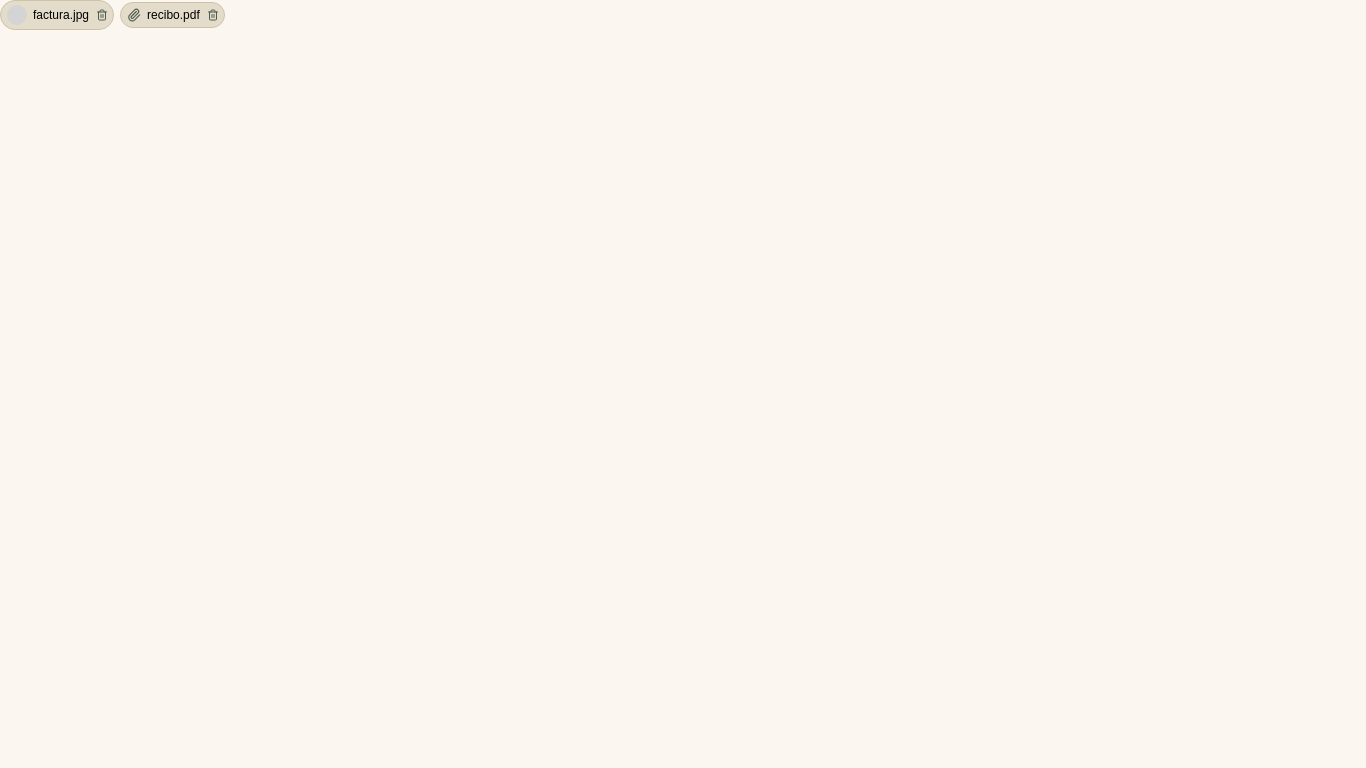
Scenario: SupplierAttachmentsGallery › renders a chip per file, a thumbnail only for images, and keeps the delete button from opening the viewer
Expected: the text "recibo.pdf" is shown, [147,7,200,23]
Click the 1st button named "Eliminar archivo". click: (102,15)
box: [94,7,110,23]
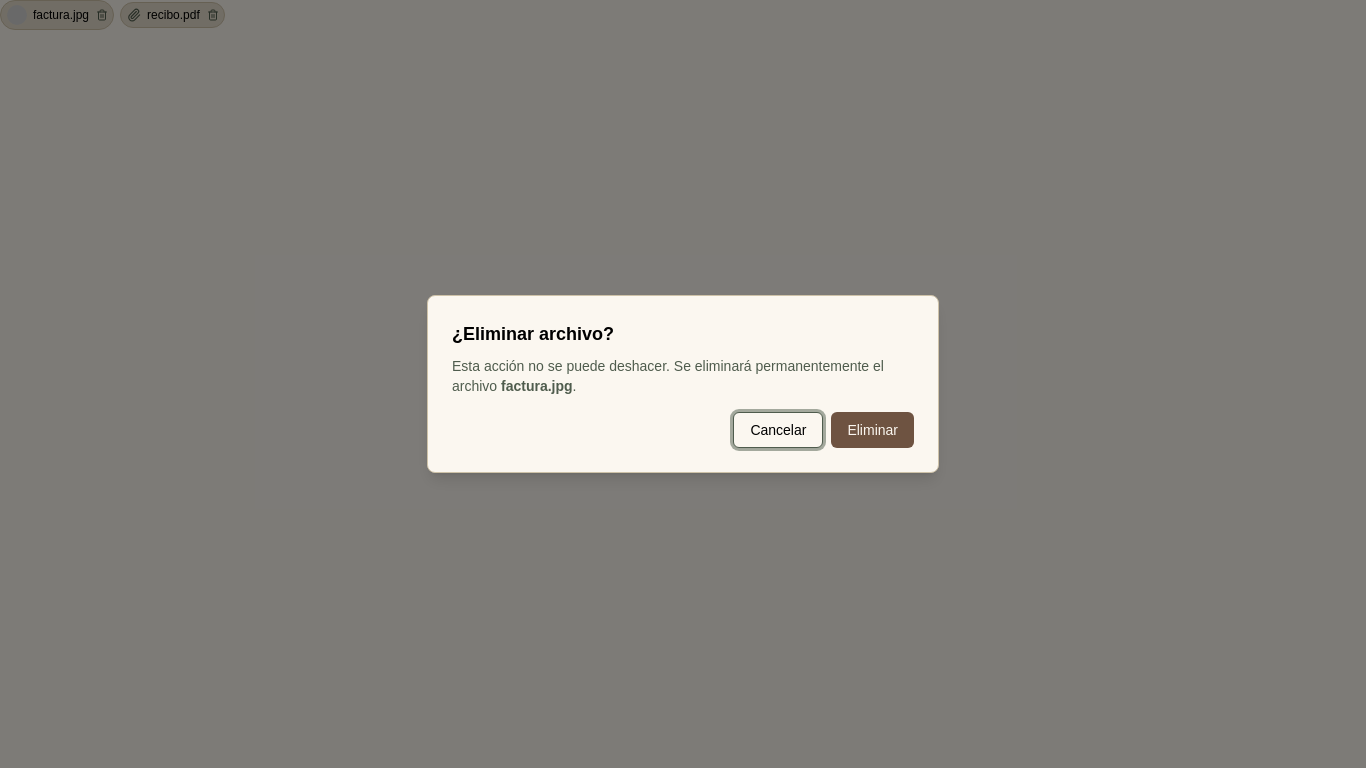
Expected: the heading "¿Eliminar archivo?" is shown, [452,324,614,344]
